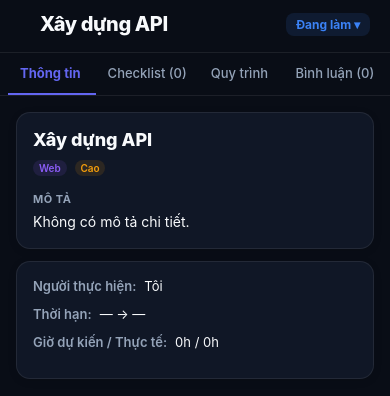
Scenario: người được giao: đổi trạng thái, thêm checklist, nộp kết quả; dự án chưa cho thì không đánh dấu thất bại
Check: the element named "Đổi trạng thái" is shown, box 286,12 -> 370,36
Click the text "Checklist (0)". click: x=147, y=73
box: 108,65 -> 187,81
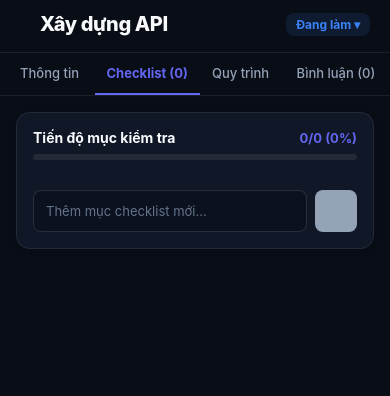
Check: the field with placeholder "Thêm mục checklist mới..." is shown, box 33,190 -> 307,232
Click the text "Quy trình". click: x=242, y=73
box: 212,65 -> 273,81
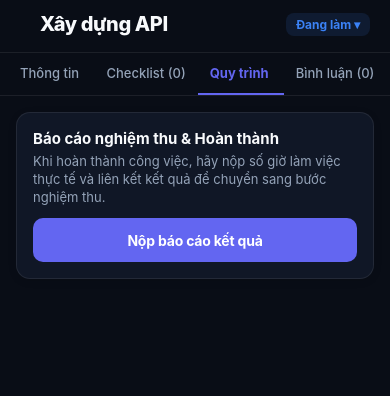
Check: the text "Nộp báo cáo kết quả" is shown, box 127,232 -> 263,248
